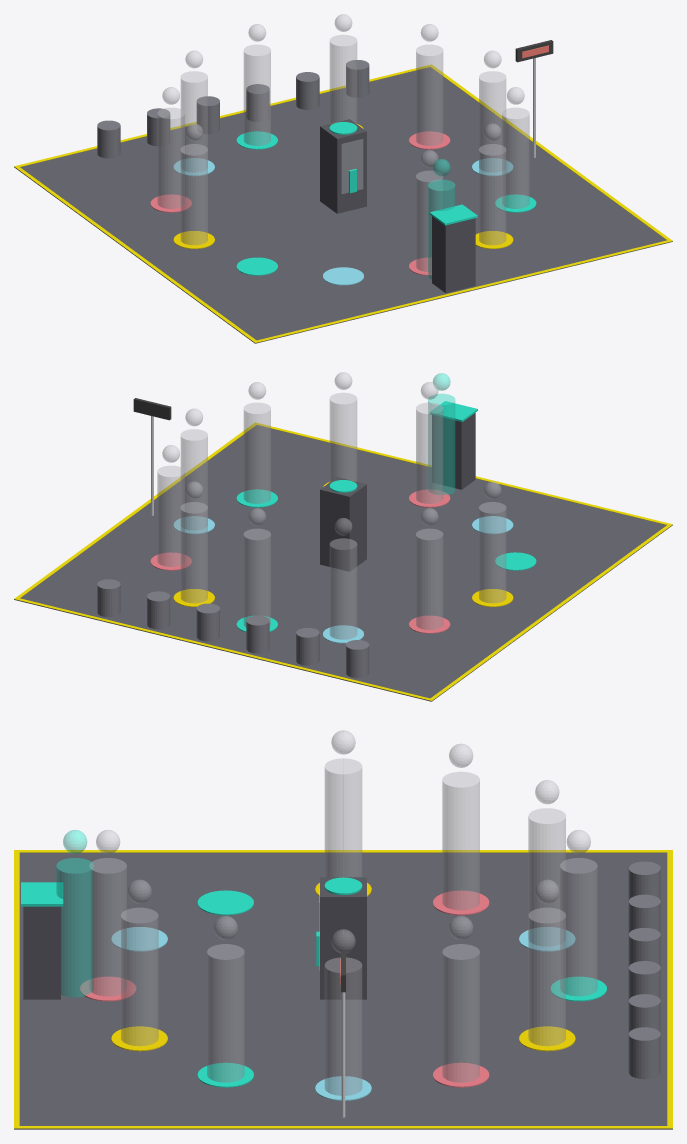
Rendered from G02_COUNTERFLOW.glb.
The picture shows the model from 3 angles, top to bottom: view 1: azimuth 30°, elevation 25°; view 2: azimuth 150°, elevation 25°; view 3: azimuth 270°, elevation 25°; orthographic projection. The views are drawn at different scales.
Parts seen in each view (by area): view 1: floor_area, discard_tower, operator_lectern, player_4_body, player_6_body, player_1_body, player_9_body, player_8_body, player_2_body, player_3_body, player_7_body, player_5_body (+24 smaller); view 2: floor_area, discard_tower, operator_lectern, player_7_body, player_2_body, player_0_body, player_5_body, player_8_body, player_9_body, player_4_body, operator_body, player_3_body (+24 smaller); view 3: floor_area, player_2_body, player_4_body, player_1_body, player_5_body, player_8_body, player_6_body, player_0_body, discard_tower, player_7_body, player_3_body, operator_body (+25 smaller).
Part boxes in pixels (bbox=[...]): floor_area: bbox=[14, 67, 672, 343]; discard_tower: bbox=[320, 119, 366, 213]; operator_lectern: bbox=[432, 216, 475, 293]; player_4_body: bbox=[416, 44, 443, 145]; player_6_body: bbox=[243, 44, 270, 145]; player_1_body: bbox=[479, 144, 506, 245]; player_9_body: bbox=[180, 144, 207, 245]; player_8_body: bbox=[157, 107, 184, 208]; player_2_body: bbox=[502, 107, 529, 208]; player_3_body: bbox=[479, 71, 506, 172]; player_7_body: bbox=[180, 71, 207, 172]; player_5_body: bbox=[329, 34, 357, 123]; floor_area: bbox=[14, 425, 672, 701]; discard_tower: bbox=[320, 477, 366, 571]; operator_lectern: bbox=[432, 413, 475, 489]; player_7_body: bbox=[329, 538, 357, 639]; player_2_body: bbox=[243, 402, 270, 503]; player_0_body: bbox=[416, 402, 443, 503]; player_5_body: bbox=[180, 502, 207, 603]; player_8_body: bbox=[416, 528, 443, 629]; player_9_body: bbox=[479, 502, 506, 603]; player_4_body: bbox=[157, 465, 184, 566]; operator_body: bbox=[428, 393, 455, 494]; player_3_body: bbox=[180, 429, 207, 530]; floor_area: bbox=[14, 852, 672, 1129]; player_2_body: bbox=[207, 944, 244, 1082]; player_4_body: bbox=[442, 944, 479, 1082]; player_1_body: bbox=[121, 907, 158, 1046]; player_5_body: bbox=[528, 907, 565, 1046]; player_8_body: bbox=[442, 771, 479, 910]; player_6_body: bbox=[560, 858, 597, 996]; player_0_body: bbox=[89, 858, 126, 996]; discard_tower: bbox=[320, 877, 366, 999]; player_7_body: bbox=[528, 808, 565, 946]; player_3_body: bbox=[324, 957, 362, 1095]; operator_body: bbox=[56, 858, 93, 997].
Bounding box in the file's own units: 7 × 1.87 × 7.
